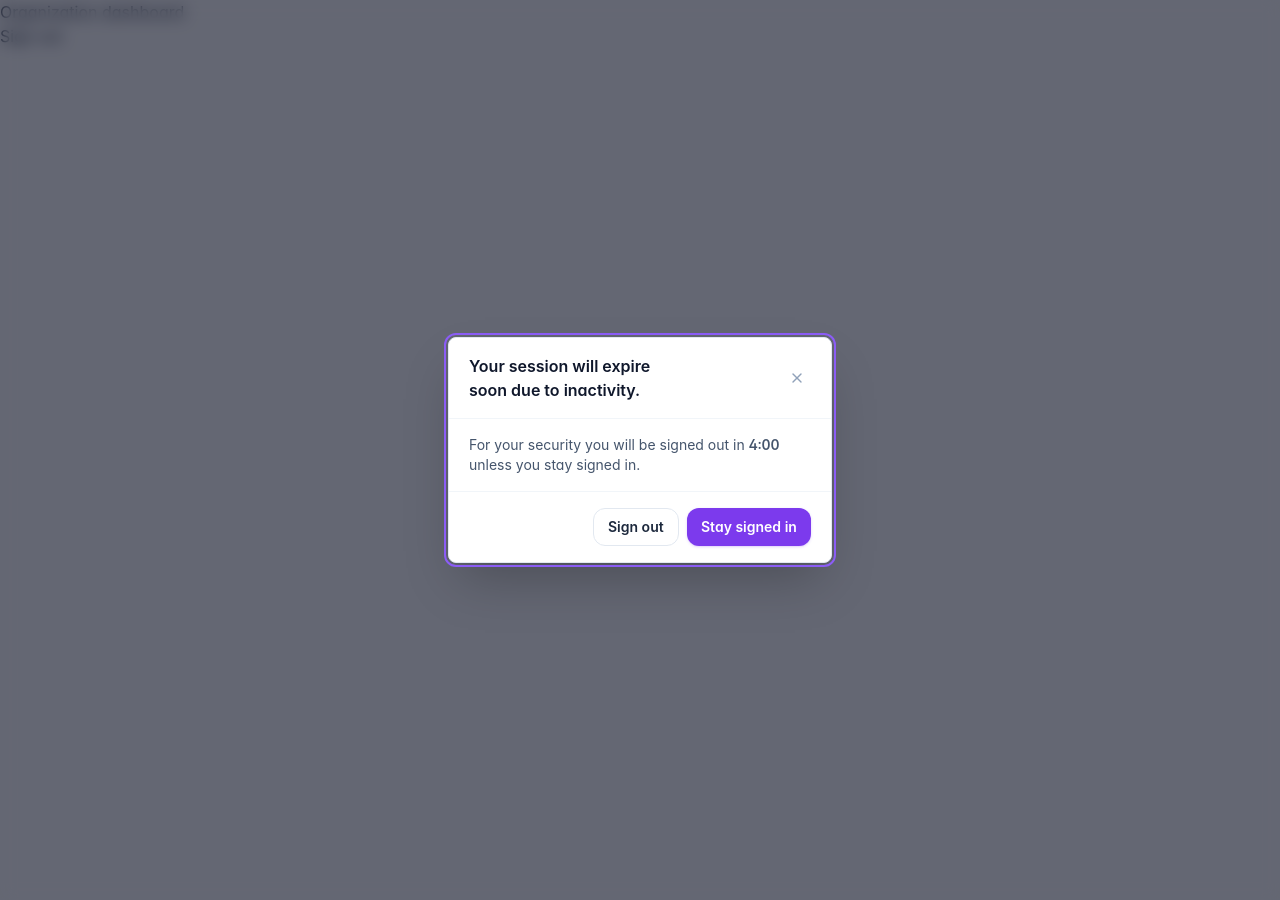
Test: the inactivity warning › Stay signed in asks the server, and the warning closes when the server agrees
The width and height of the screenshot is (1280, 900).
Check: the dialog is shown, box x1=448 y1=337 x2=832 y2=563
Click the button "Stay signed in".
click(749, 527)  # box x1=687 y1=508 x2=811 y2=546
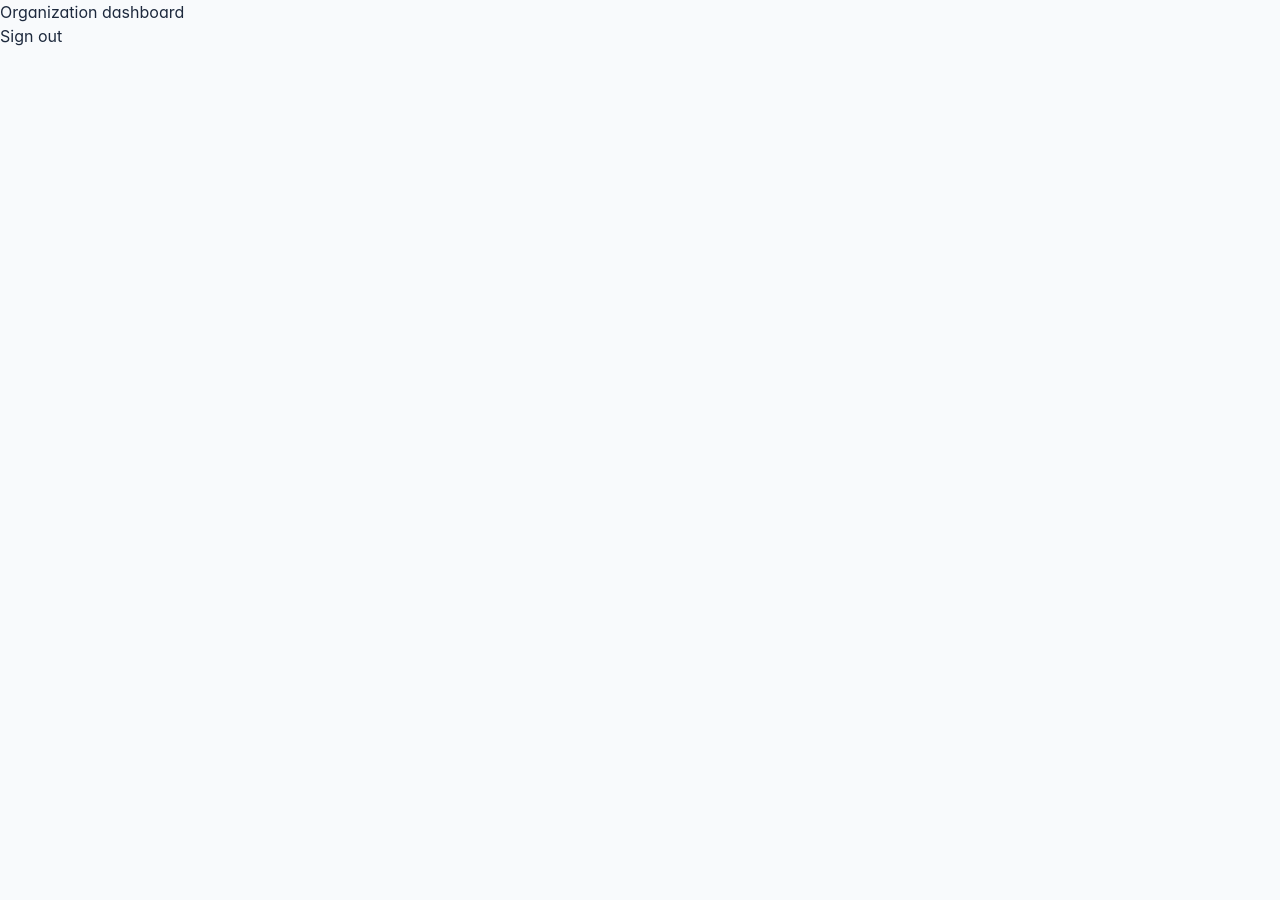
Check: the heading "Organization dashboard" is shown, box x1=0 y1=2 x2=184 y2=22
Check: the dialog is gone
